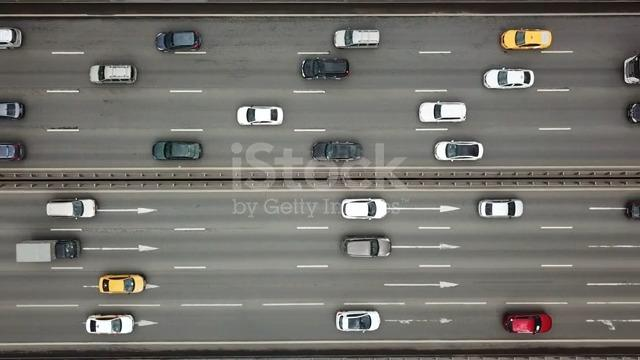Cars: (501, 28, 553, 51), (483, 68, 535, 90), (301, 57, 350, 80), (312, 140, 363, 162), (434, 140, 484, 162), (86, 313, 135, 335), (46, 198, 97, 219), (419, 101, 467, 123), (156, 30, 202, 52), (99, 274, 147, 295), (89, 64, 137, 85), (153, 141, 203, 161), (237, 105, 284, 126), (334, 29, 381, 50), (478, 198, 524, 218), (1, 141, 26, 162), (624, 54, 640, 85), (1, 101, 25, 120), (625, 199, 640, 220), (627, 102, 640, 124)
